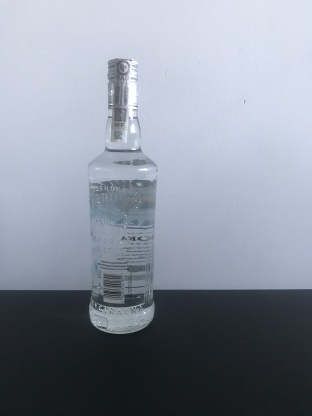nakretka: (104, 54, 140, 114)
